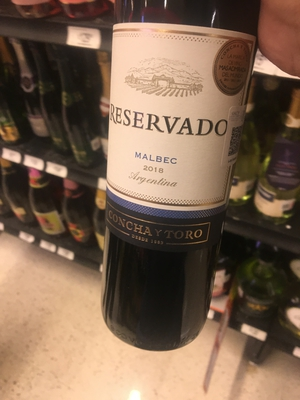reservado malbec: (98, 3, 261, 367)
